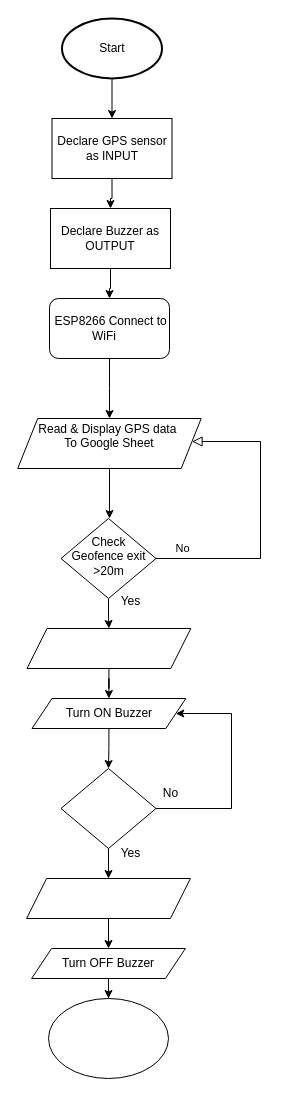
This 288x1096 diagram has some shape labels left out. The centre of each missing label's shape, as x and y in pixels:
Alert Message "INSIDE": [108,898]
Alert Message "OUTSIDE": [108,648]
Check Geofence enter <20m: [108,808]
END: [108,1038]
